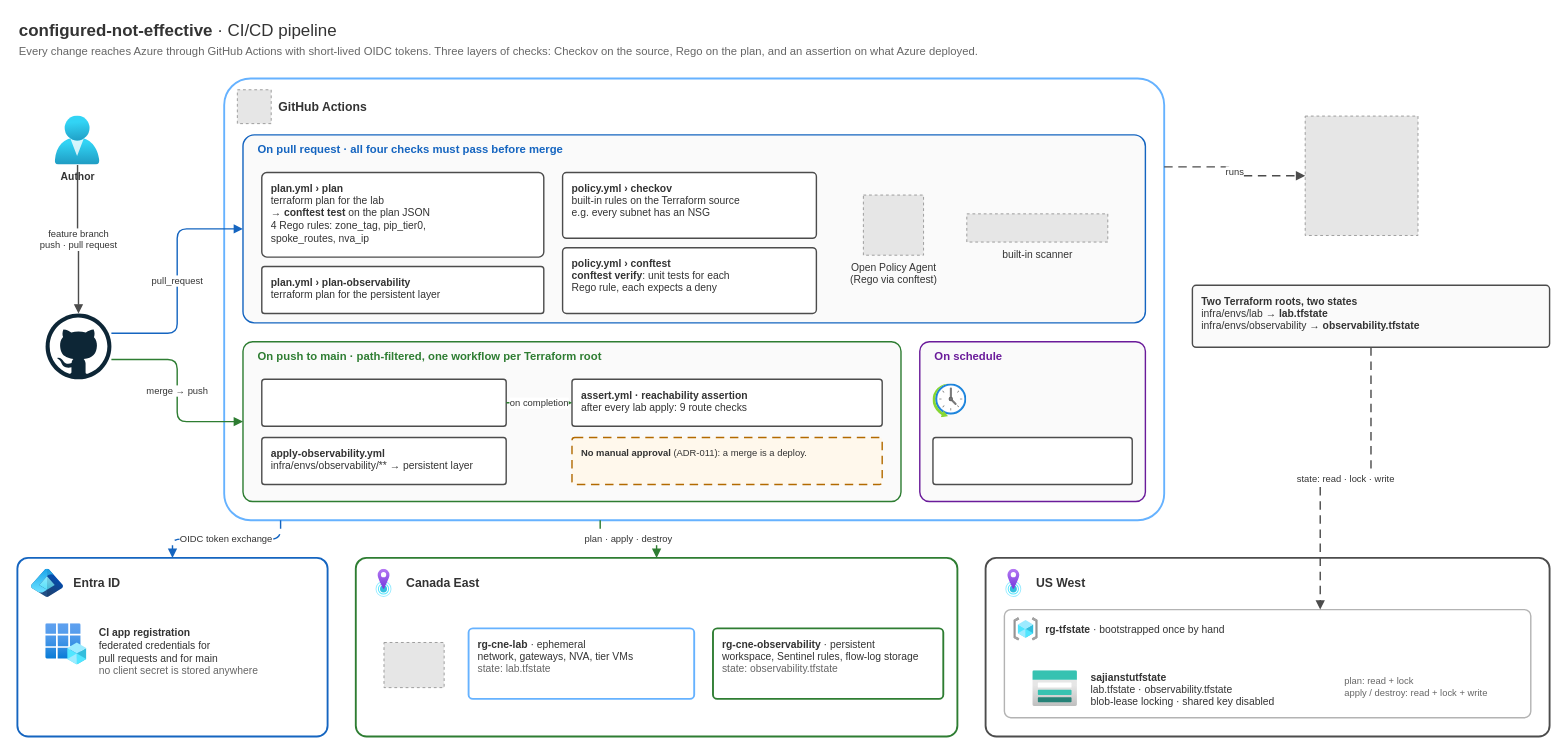
The diagram is 1566 pixels wide and 753 high, and some of its shapes have lost their labels. Grey dashed boxes stand in for pictures. Here are the shapes that lost their labels. From the top down, the centre of each, then its label:
point 78,346: GitHub repository main protected by 4 required checks
point 383,402: apply.yml infra/envs/lab/** → rg-cne-lab
point 1032,460: nightly-destroy.yml · 07:22 UTC daily terraform destroy on the lab state only
